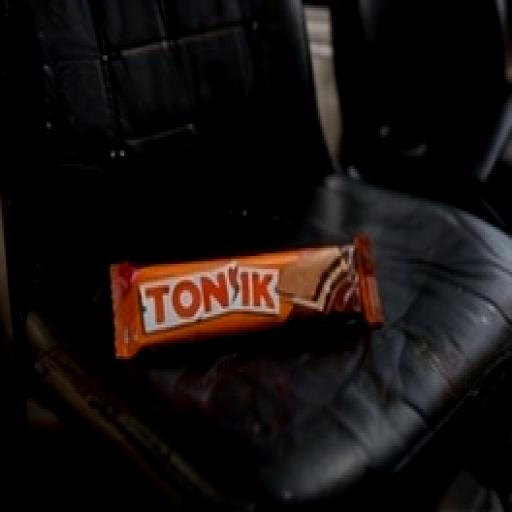tonik: (28, 126, 421, 420)
